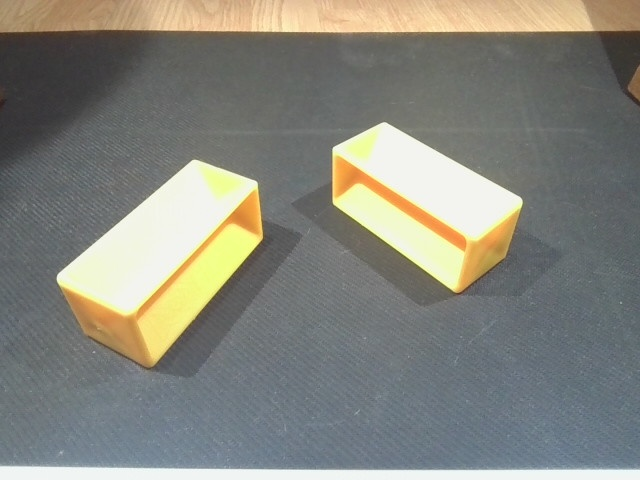YellowSample: (53, 156, 279, 370), (329, 118, 525, 296)
